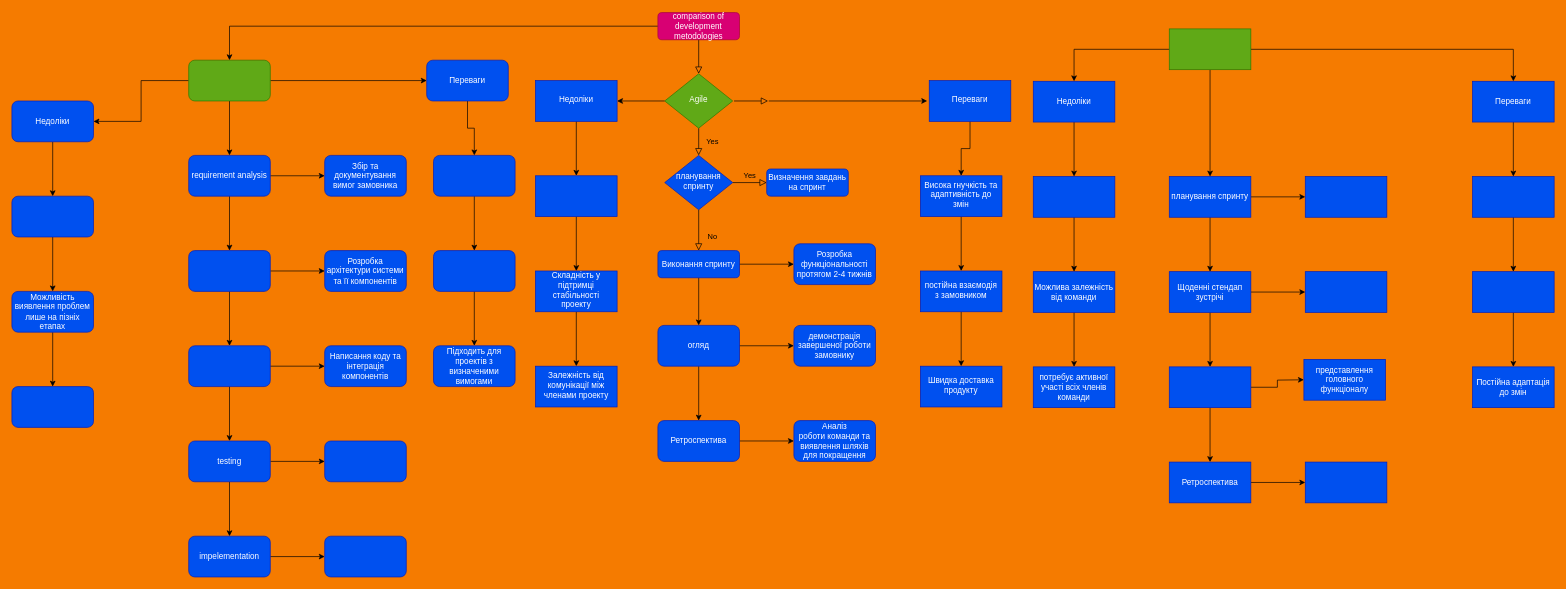
Some shapes in this 1566 by 589 pixel diagram are drawn without their labels. The shapes that lost their labels are listed below. From the top down, each one's box as (x1, y1, x2, y2) in pixels, then its label:
(1169, 28, 1251, 70): Scrum
(188, 60, 270, 101): Waterfall (каскадна модель)
(433, 155, 515, 196): Чітка структура та документація
(535, 175, 617, 217): Можливість відсутності чіткої документації
(1033, 176, 1115, 217): потребує досвіду в пеалізації
(1305, 176, 1387, 217): Визначення завдань на цілий спринт
(1472, 176, 1554, 217): Чітко визначенні ролі (Produkt Owner)
(11, 196, 94, 237): Низька гнучкість у реагуванні на зміни
(188, 250, 270, 291): dyzayn
(433, 250, 515, 291): Легкість в управлінні та контролі прогресу
(1305, 271, 1387, 312): обговорення прогресу та перешкод
(1472, 271, 1554, 312): Зосередженість на результатах у короткі терміни
(188, 345, 270, 387): realyzatsia
(11, 386, 94, 427): Не підходить для проектів з високим рівнем невизначеності
(1169, 366, 1251, 408): демонстрація
(324, 440, 406, 482): Перевірка системи на помилки та відповідність вимогам
(1305, 461, 1387, 503): Аналіз процесу роботи команди
(324, 536, 406, 577): Запуск системи в експлуатацію
